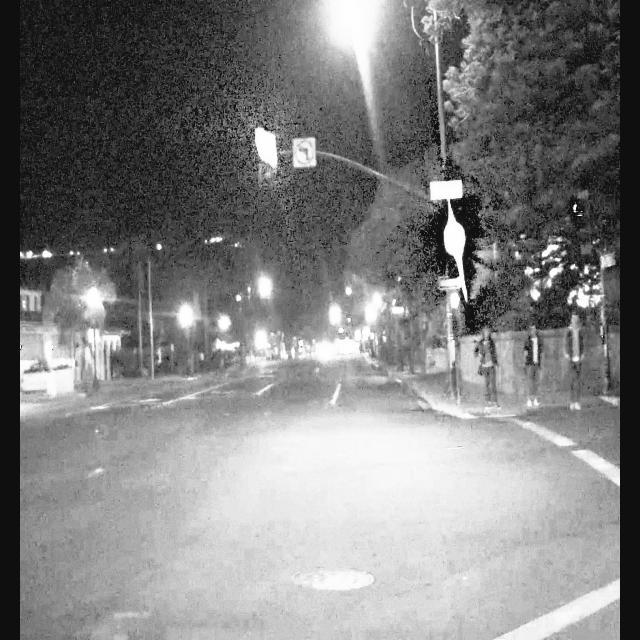Light: (571, 197, 591, 260), (258, 121, 274, 192), (447, 213, 461, 265), (451, 293, 460, 309)
Sign: (292, 137, 316, 168), (430, 181, 463, 199)
